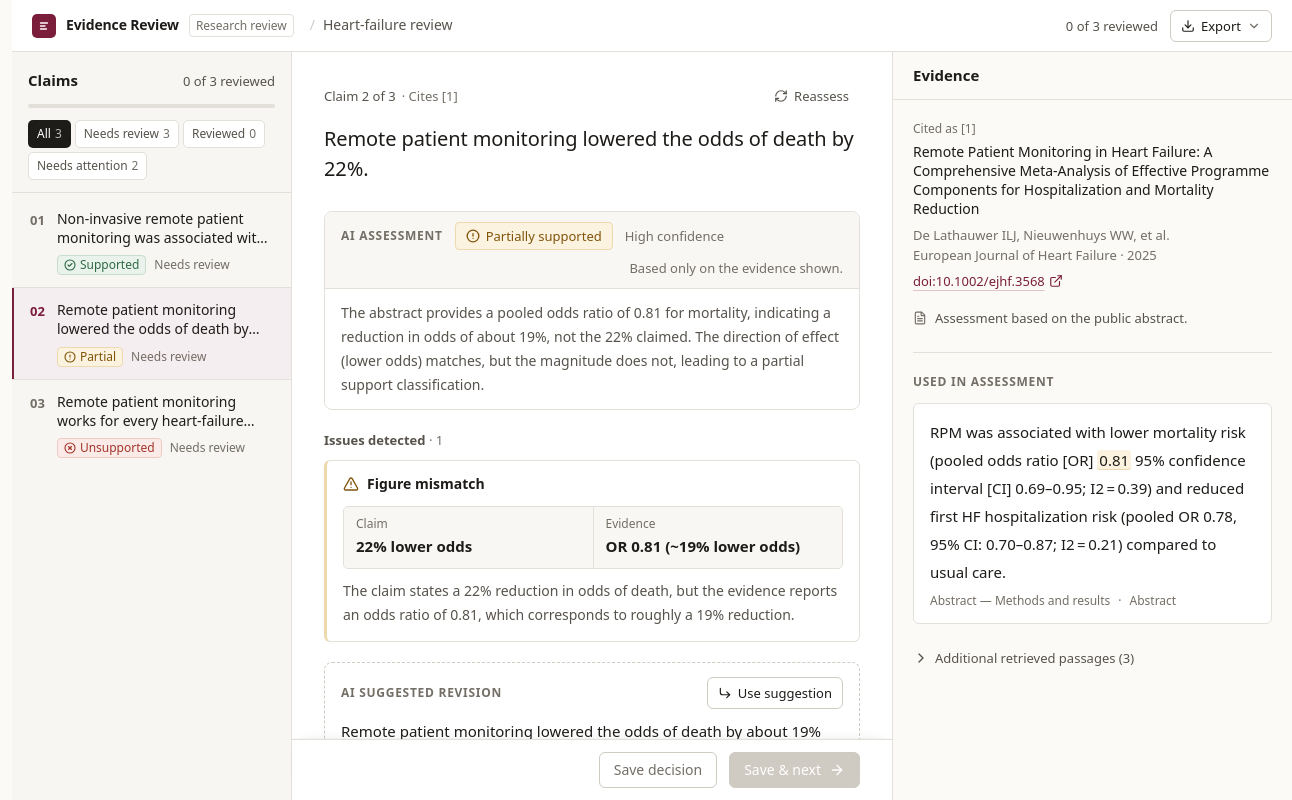
Scenario: Review workspace — reassessment and failures › shows a reassessment failure without discarding the current assessment
The width and height of the screenshot is (1292, 800).
Expected: the heading "Claim 2 of 3" is shown, 324,86 -> 396,106
Click the button "Reassess".
click(812, 96)  # box 763,80 -> 860,112
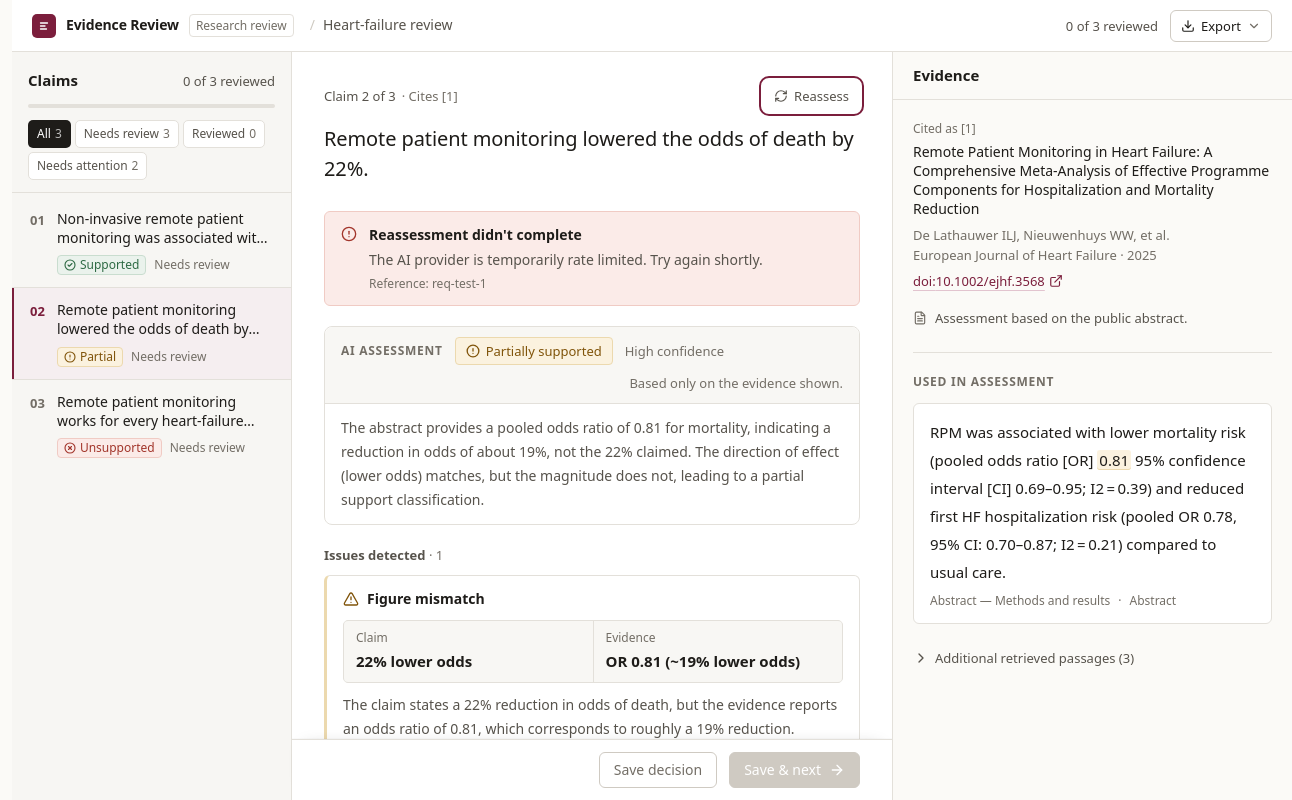
Expected: the text "The abstract provides a pooled odds ratio of 0.81 for mortality, indicating a reduction in odds of about 19%, not the 22" is shown, 341,418 -> 839,509
Expected: the text "Reassessment didn't complete" is shown, 369,225 -> 582,244
Expected: the text "temporarily rate limited" is shown, 369,250 -> 763,269
